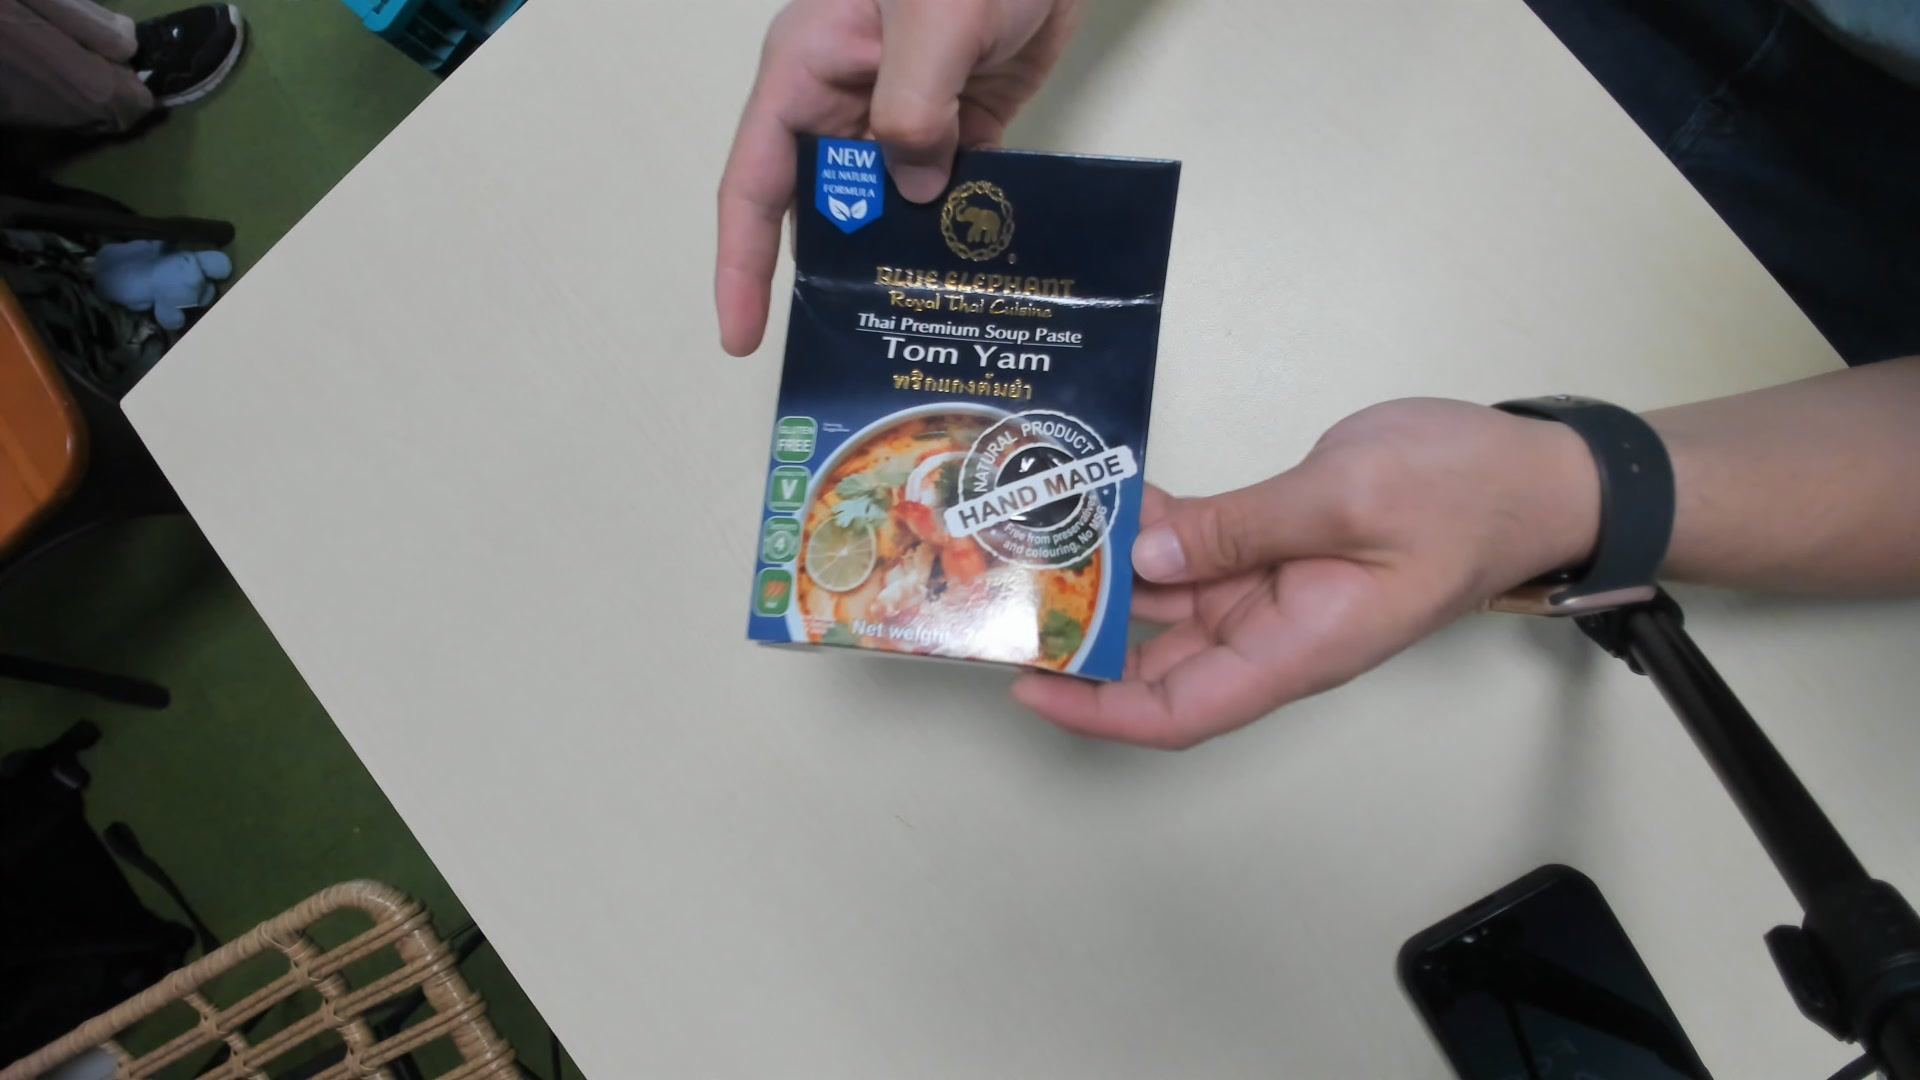OtherSauceDressing_0-99g_Halal_NonHealthy: (746, 119, 1175, 687)
